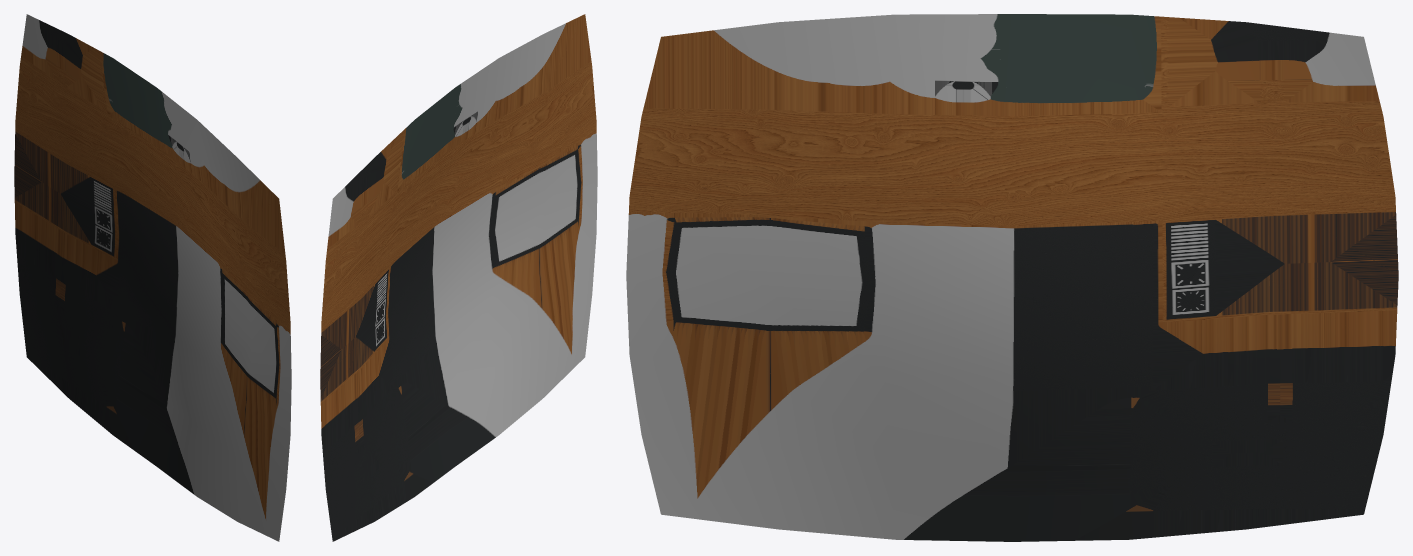
File: TVScreen.fbx
The picture shows the model from 3 angles, left to right: view 1: azimuth 30°, elevation 25°; view 2: azimuth 150°, elevation 25°; view 3: azimuth 270°, elevation 25°; orthographic projection. The views are drawn at different scales.
Parts seen in each view (by area): view 1: TVScreen_Separated; view 2: TVScreen_Separated; view 3: TVScreen_Separated.
Part boxes in pixels (x1=…): TVScreen_Separated: x1=14, y1=14, x2=291, y2=541; TVScreen_Separated: x1=320, y1=14, x2=597, y2=541; TVScreen_Separated: x1=626, y1=14, x2=1398, y2=541.
Bounding box in the file's own units: 11.14 × 155 × 206.
